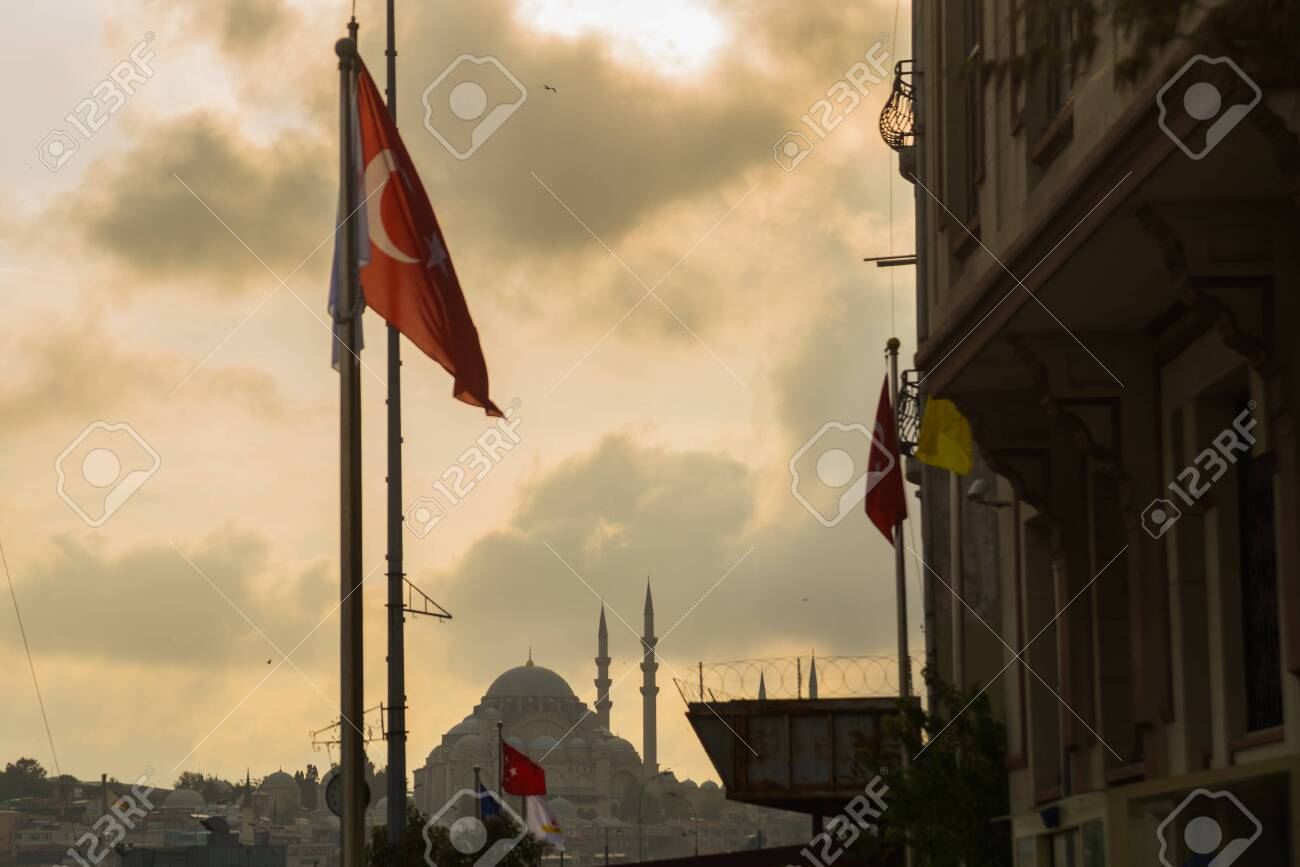Flag: (346, 52, 504, 419), (866, 377, 908, 552), (476, 788, 536, 863), (499, 740, 548, 795), (526, 797, 565, 853)
